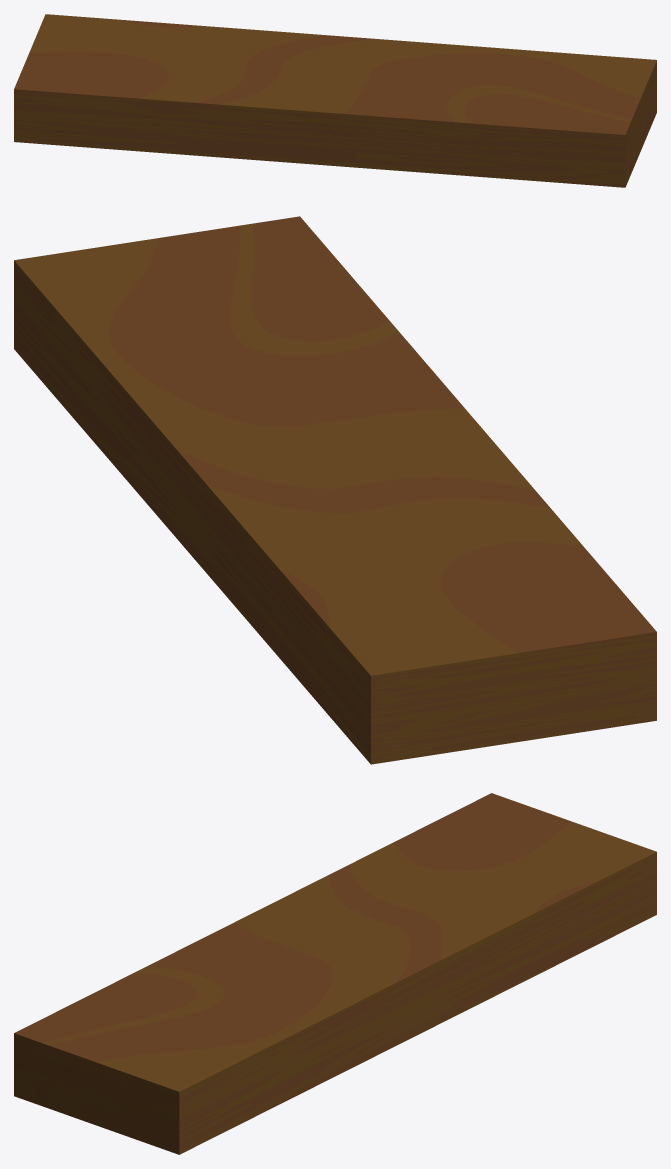
Rendered from LongPlank.glb.
3 renders of one model, top to bottom at view 1: azimuth 30°, elevation 25°; view 2: azimuth 150°, elevation 25°; view 3: azimuth 270°, elevation 25°, orthographic. The views are drawn at different scales.
Parts seen in each view (by area): view 1: Plank.1; view 2: Plank.1; view 3: Plank.1.
Part boxes in pixels (<box>): Plank.1: <box>14,14,656,187</box>; Plank.1: <box>14,216,656,764</box>; Plank.1: <box>14,793,656,1154</box>.
Size of the model in its own units: 3.2 by 0.315 by 2.91.
Materials: 1 (1 with a texture image).
